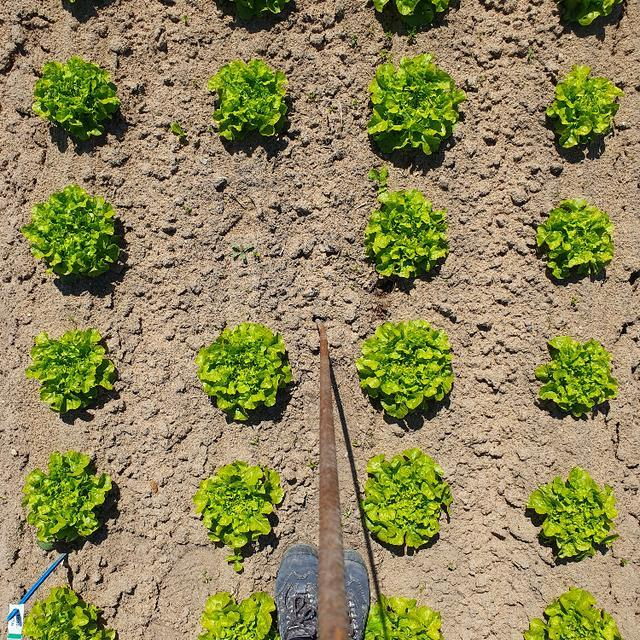Lettuce: (365, 53, 468, 167), (355, 313, 458, 422), (198, 323, 300, 427), (357, 446, 453, 556), (190, 457, 292, 555), (364, 188, 454, 294), (23, 185, 124, 278), (527, 463, 618, 565), (27, 325, 122, 422), (20, 452, 120, 543), (540, 62, 627, 158), (530, 335, 622, 425), (205, 55, 297, 143), (532, 197, 620, 288), (32, 57, 123, 143), (522, 590, 625, 640), (23, 585, 114, 640), (200, 588, 283, 640), (360, 595, 448, 640)
